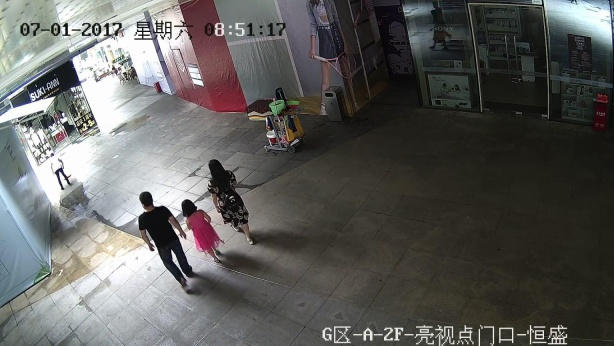person: (206, 154, 259, 248), (134, 189, 178, 282), (180, 194, 226, 265), (45, 151, 76, 189)
